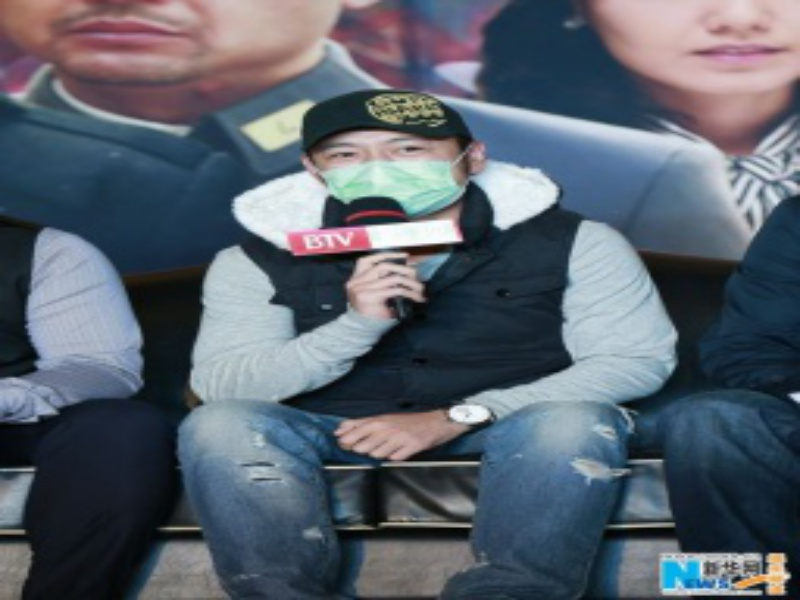ManaoArotava: (302, 99, 491, 248)
